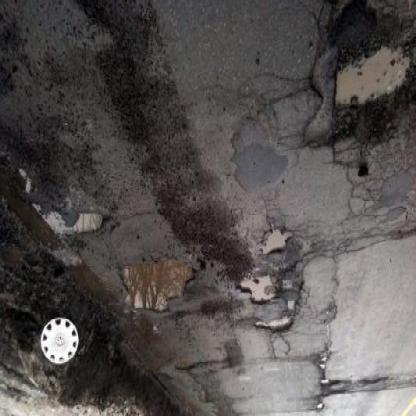pothole: (330, 40, 415, 152), (121, 259, 197, 316), (239, 276, 276, 310), (72, 212, 106, 241), (262, 230, 293, 260), (254, 316, 293, 337)
